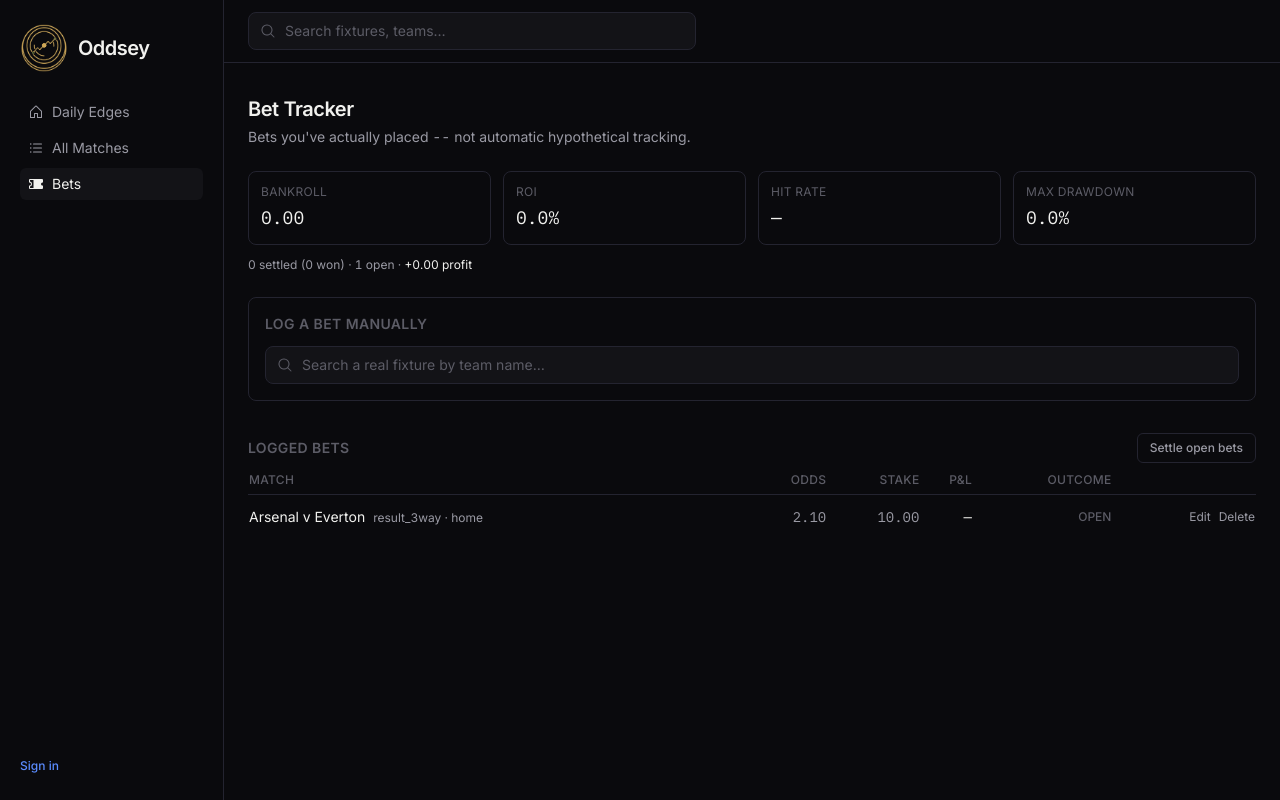
it: BetTrackerPage lets a user edit their own logged bet (W216) › shows an inline error and keeps the form open when the update fails (not a 401)
This screenshot has width=1280, height=800.
Check: the text "Arsenal v Everton" is shown, box [249,508,483,525]
Click the button with aria-label "edit bet".
click(1200, 517)  # box [1189,509,1211,525]
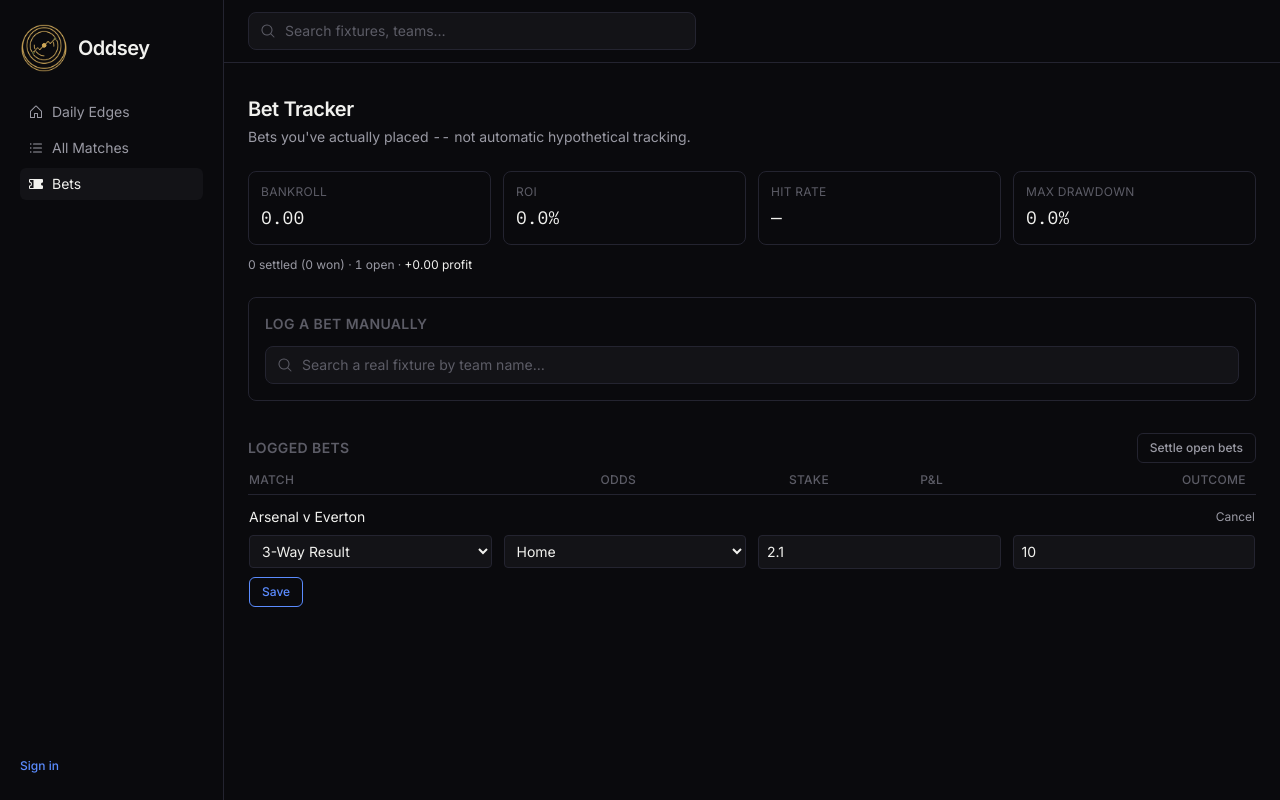
Click the button with aria-label "save bet edit".
click(276, 592)  # box [249,577,303,607]
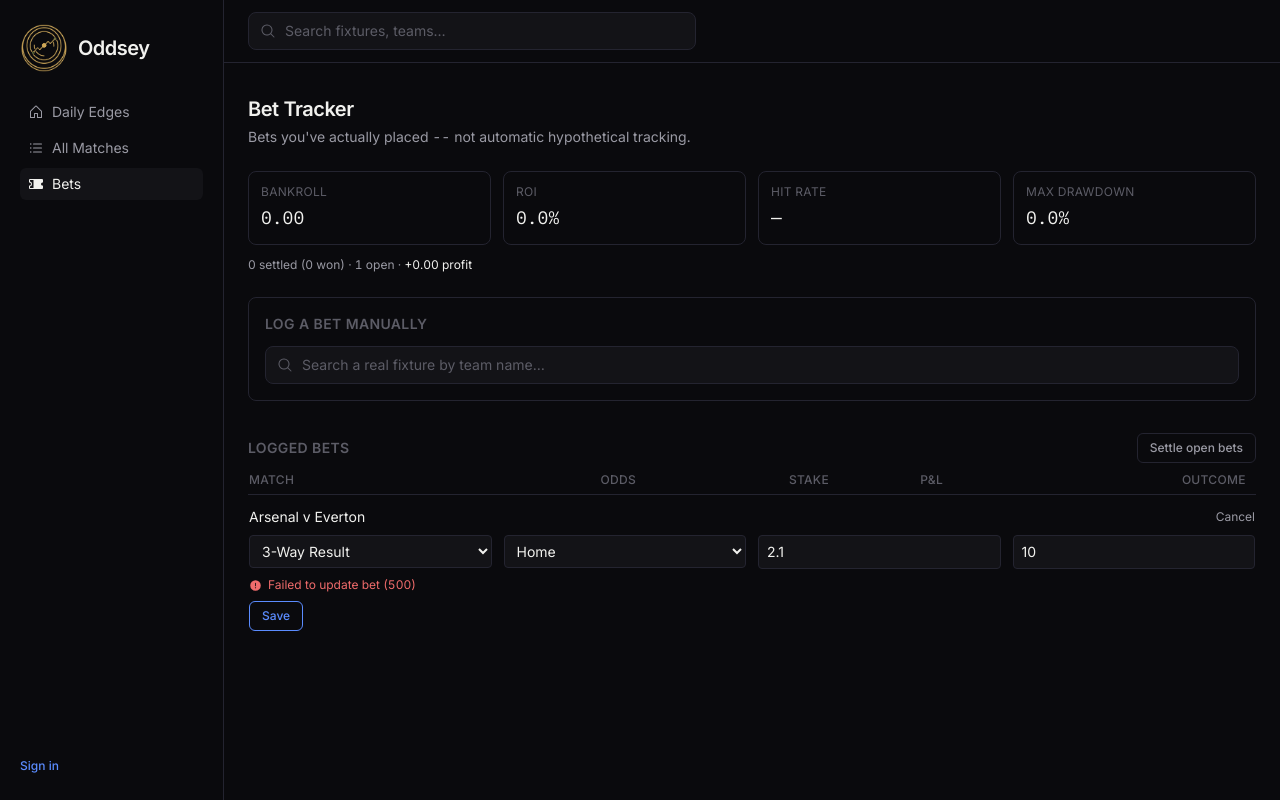
Check: the 2nd field named "edit stake" is shown, box [1012,535,1255,569]
Check: the text "Failed to update bet (500)" is shown, box [249,577,416,592]
